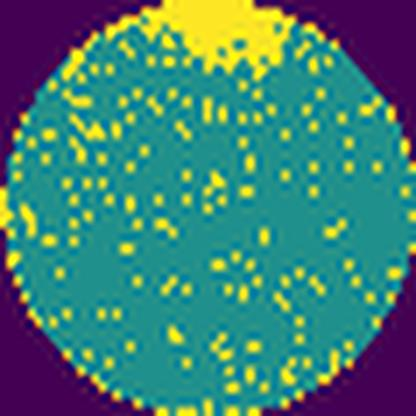Edge-Loc: (146, 0, 295, 79)
